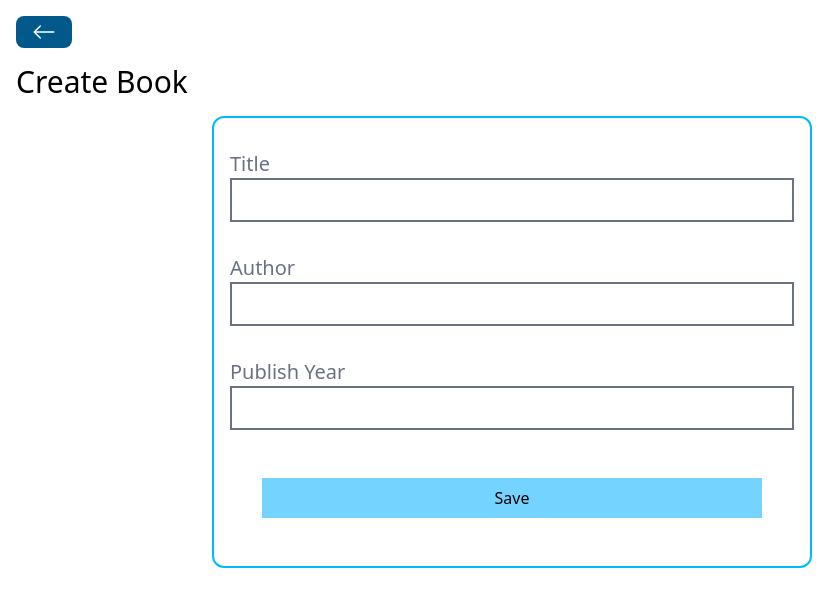
Test: CreateBooks › shows error message on server failure
Type "New Book" into the field labelled "Title" at {"x": 512, "y": 200}, box 230,178 -> 794,222
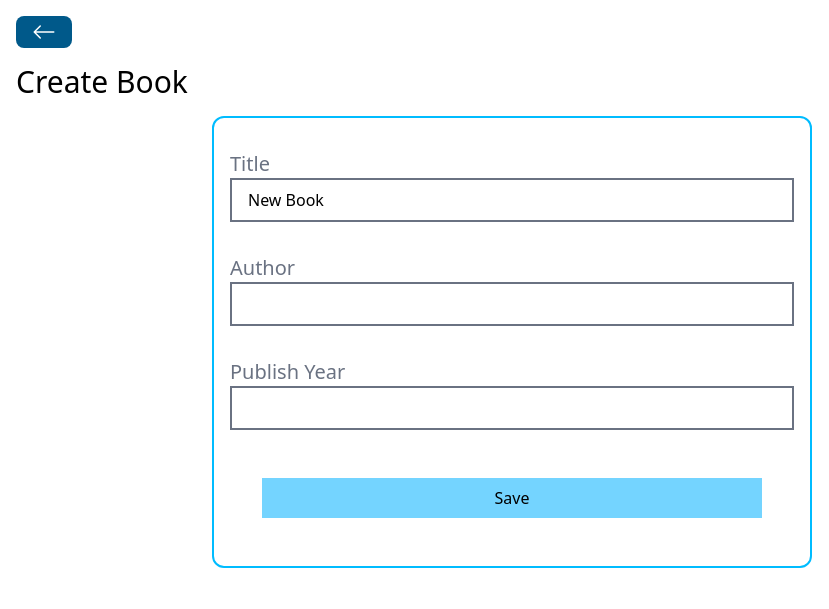
Type "New Author" into the field labelled "Author" at {"x": 512, "y": 304}, box 230,282 -> 794,326
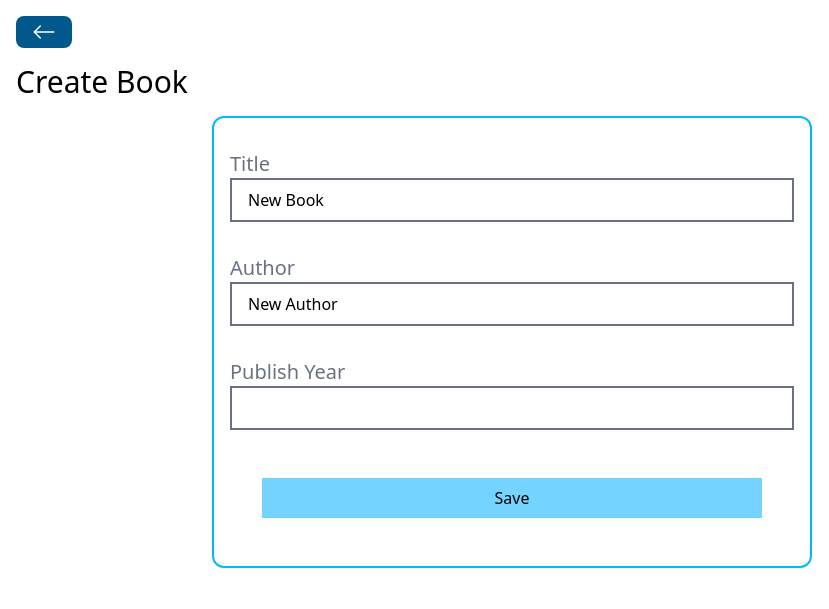
Type "2023" into the number field labelled "Publish Year" at {"x": 512, "y": 408}, box 230,386 -> 794,430
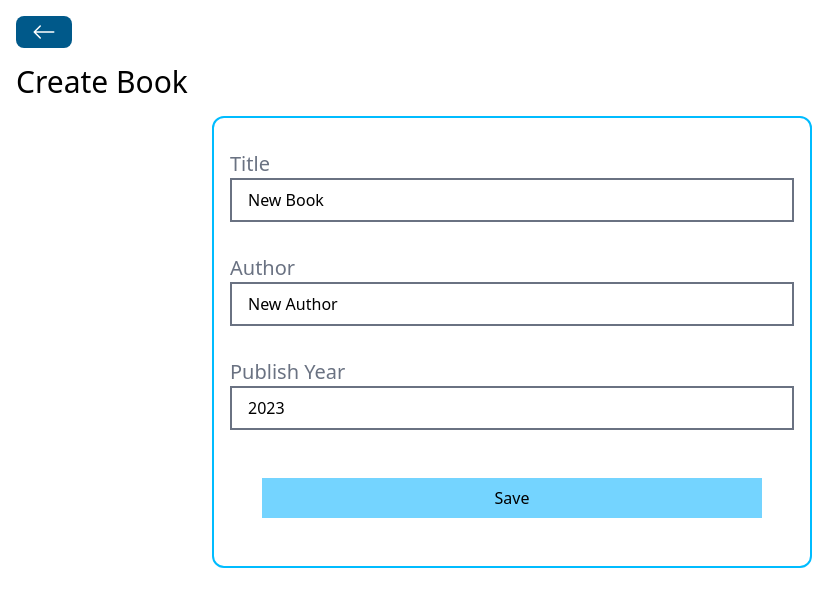
Click the button "Save" at {"x": 512, "y": 498}, box 262,478 -> 762,518
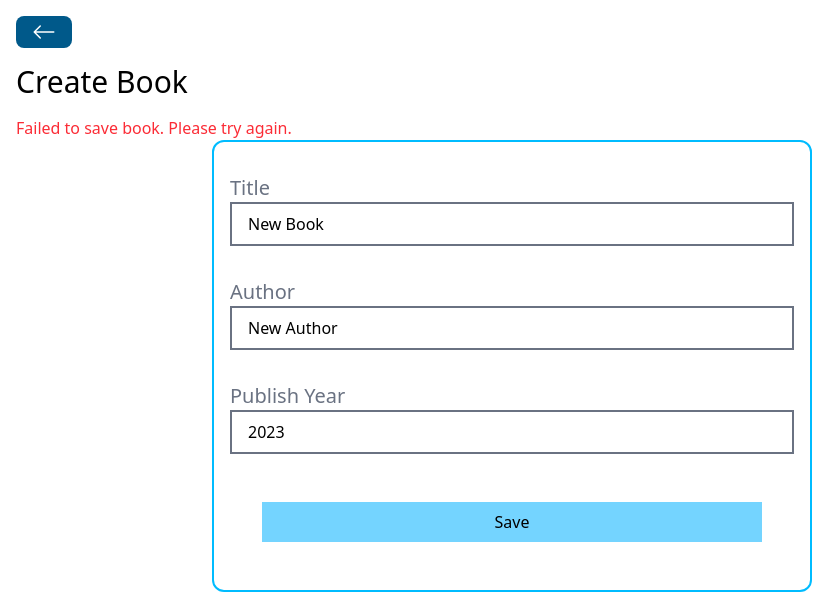
Now the text "Failed to save book. Please try again." is shown, box 16,117 -> 292,139
